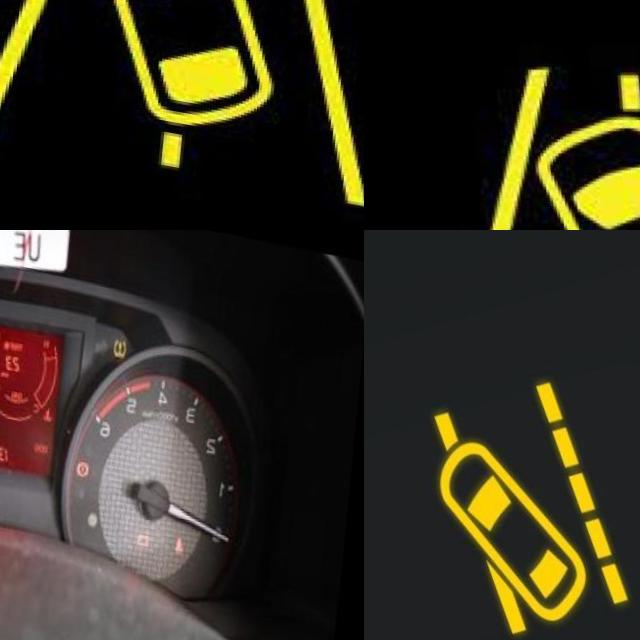Seat Belt: (179, 518, 193, 538)
